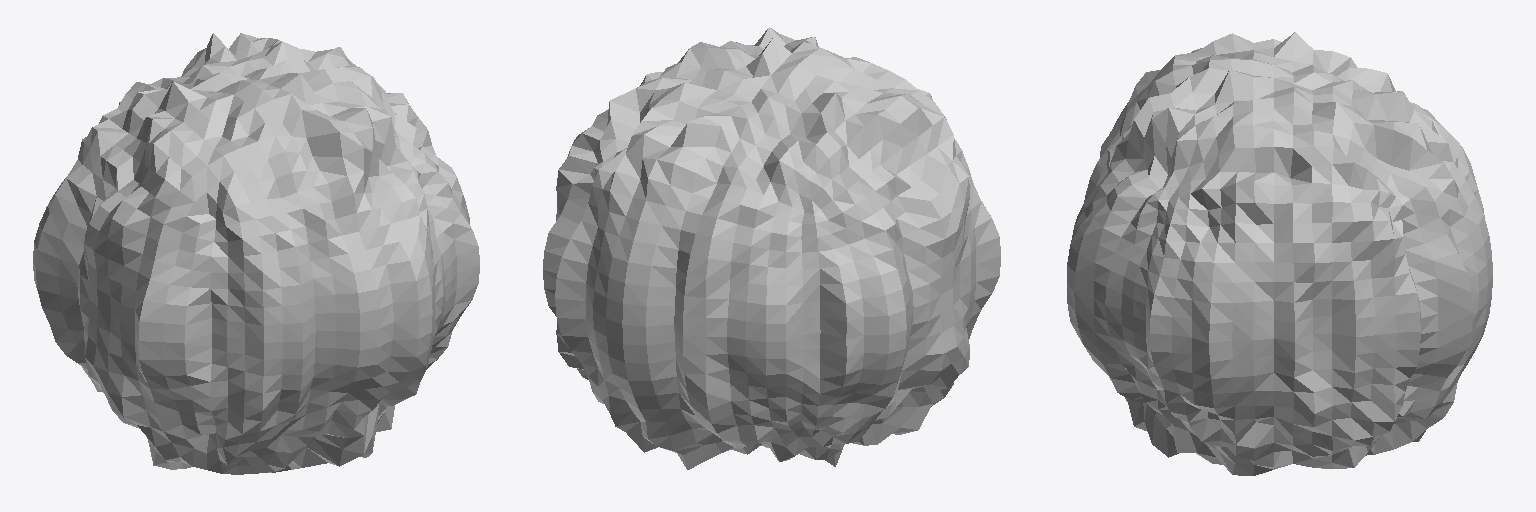
The model's file is asteroid187.obj.
3 renders of one model, left to right at view 1: azimuth 30°, elevation 25°; view 2: azimuth 150°, elevation 25°; view 3: azimuth 270°, elevation 25°, orthographic.
Parts seen in each view (by area): view 1: Cube_Cube.002; view 2: Cube_Cube.002; view 3: Cube_Cube.002.
Boxes of the visible parts, x1=… form: Cube_Cube.002: x1=33, y1=33, x2=479, y2=474; Cube_Cube.002: x1=543, y1=27, x2=1000, y2=469; Cube_Cube.002: x1=1067, y1=32, x2=1492, y2=475.
Bounding box in the file's own units: 1.68 × 1.75 × 1.73.